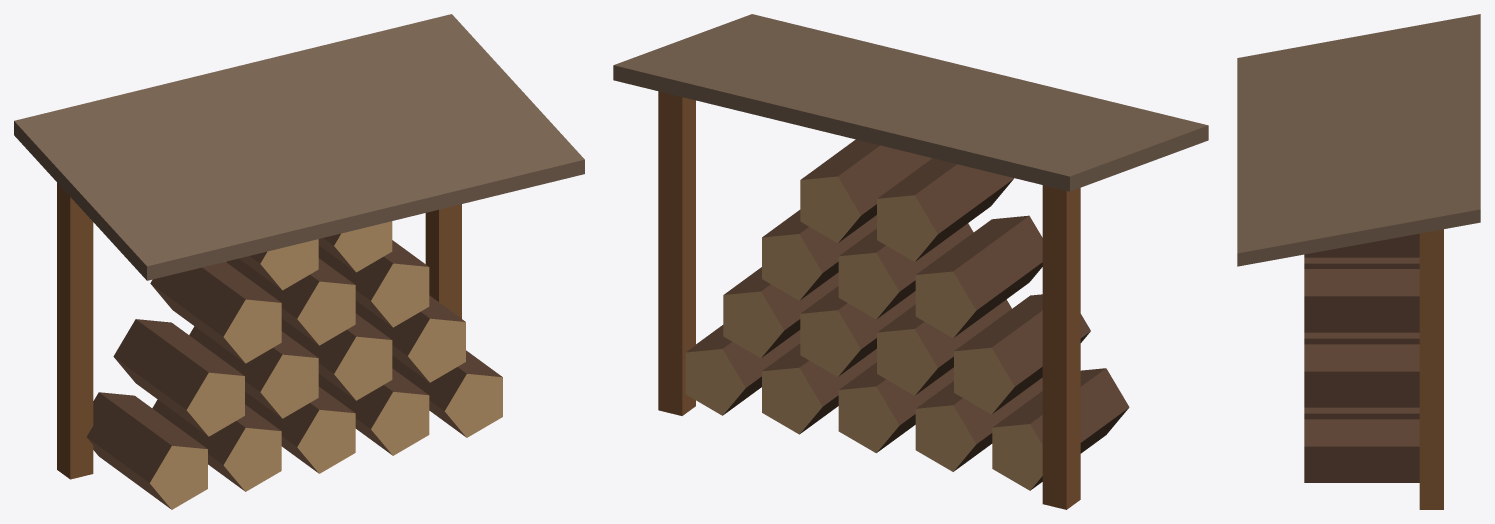
File: Dorf_Holzstapel.fbx
The picture shows the model from 3 angles, left to right: view 1: azimuth 30°, elevation 25°; view 2: azimuth 150°, elevation 25°; view 3: azimuth 270°, elevation 25°; orthographic projection. The views are drawn at different scales.
Visible parts, largest first — view 1: Dorf_Holzstapel; view 2: Dorf_Holzstapel; view 3: Dorf_Holzstapel.
Boxes of the visible parts, x1=… form: Dorf_Holzstapel: x1=14, y1=14, x2=584, y2=509; Dorf_Holzstapel: x1=613, y1=14, x2=1208, y2=509; Dorf_Holzstapel: x1=1237, y1=14, x2=1480, y2=509.
Bounding box in the file's own units: 1.9 × 1.41 × 1.
